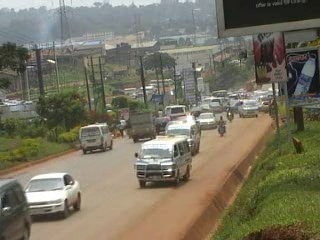Car: (19, 170, 83, 220), (0, 174, 37, 239), (193, 111, 218, 133), (153, 114, 176, 136), (188, 104, 205, 118), (208, 99, 224, 113)
Motorcycle: (215, 113, 228, 137), (223, 104, 235, 122)
